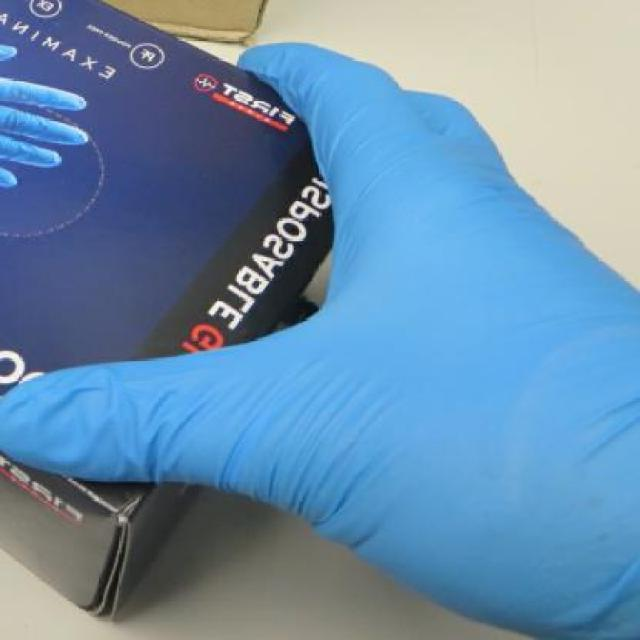gloved_hand: (3, 42, 640, 640)
